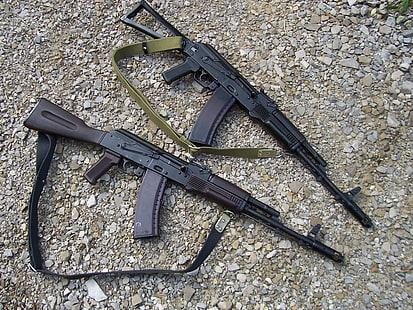larga: (119, 0, 374, 229), (22, 96, 346, 264)
